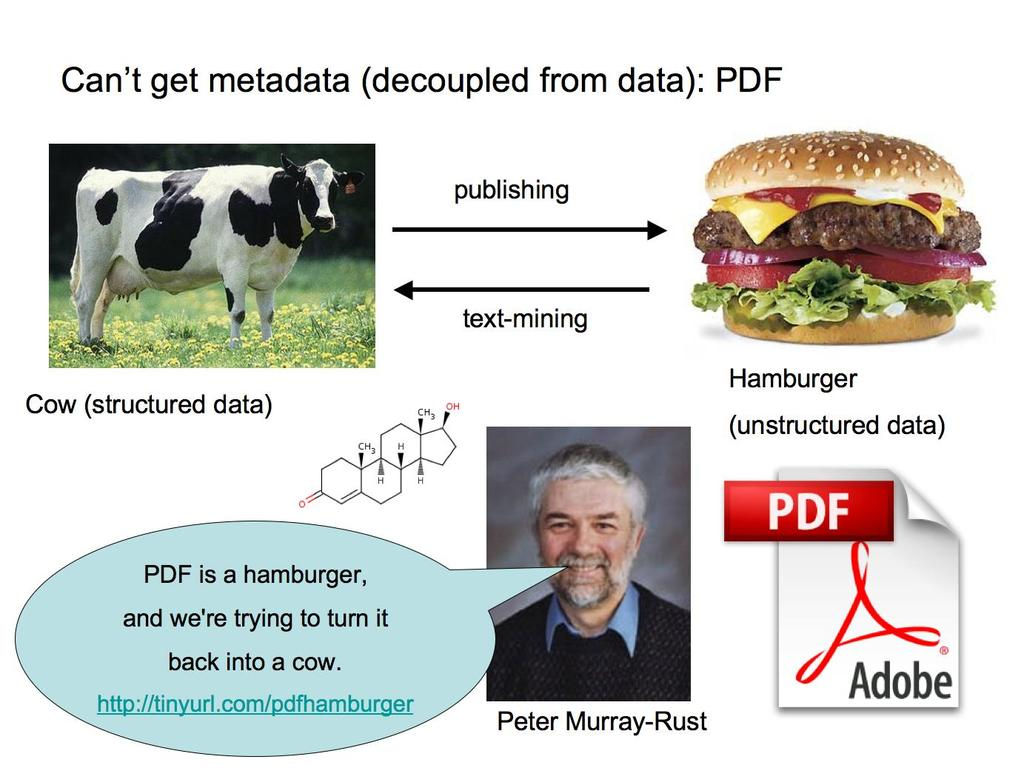Hamburger: (693, 129, 994, 346)
